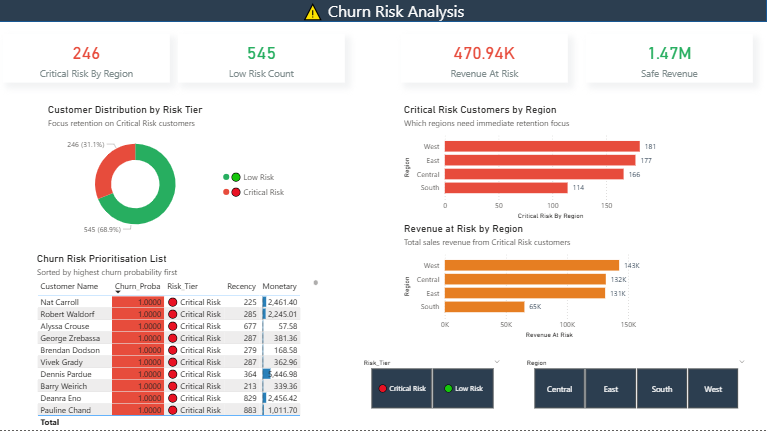

What the dashboard file says about the page in this screenshot:
{"tool":"powerbi","page":{"name":"Churn Risk","canvas":[1280,720],"ordinal":4},"visuals":[{"type":"shape","box":[0,0,1280,40],"z":0},{"type":"card","fields":{"Values":["Orders.Critical Risk By Region"]},"box":[5.9,60.2,277.7,80.8],"z":1000},{"type":"card","fields":{"Values":["Orders.LowRiskCount"]},"box":[298.3,60.2,277.7,80.8],"z":2000},{"type":"card","fields":{"Values":["Orders.Revenue at Risk"]},"box":[670,60.2,277.7,80.8],"z":3000},{"type":"card","fields":{"Values":["Orders.SafeRevenue"]},"box":[978.6,60.2,277.7,80.8],"z":4000},{"type":"donutChart","title":"Customer Distribution by Risk Tier","fields":{"Category":["Churn_Scores.Risk_Tier"],"Y":["Orders.TotalChurnCustomers"]},"box":[76.4,174.9,412.9,229.2],"z":5000},{"type":"clusteredBarChart","title":"Critical Risk Customers by Region","fields":{"Category":["Orders.Region"],"Y":["Orders.Critical Risk Count"]},"box":[670,174.9,440.8,198.4],"z":6000},{"type":"clusteredBarChart","title":"Revenue at Risk by Region","fields":{"Category":["Orders.Region"],"Y":["Orders.Revenue At Risk"]},"box":[670,373.2,440.8,198.4],"z":7000},{"type":"tableEx","title":"Churn Risk Prioritisation List","fields":{"Values":["Churn_Scores.Customer Name","Churn_Scores.Churn_Proba","Churn_Scores.Risk_Tier","Churn_Scores.Recency","Churn_Scores.Monetary"]},"box":[58.8,423.2,479,296.8],"z":8000},{"type":"slicer","fields":{"Values":["Churn_Scores.Risk_Tier"]},"box":[595.1,596.6,252.7,94],"z":9000},{"type":"slicer","fields":{"Values":["Orders.Region"]},"box":[866.9,596.6,389.4,94],"z":10000}]}

Visuals, with their boxes in screenshot pixels (x1, y1, x2, y2), scaled from the page's 1280x720 canvas onto the 767x431 screenshot:
shape: <bbox>0, 0, 766, 24</bbox>
card - Orders.Critical Risk By Region: <bbox>4, 36, 170, 84</bbox>
card - Orders.LowRiskCount: <bbox>179, 36, 345, 84</bbox>
card - Orders.Revenue at Risk: <bbox>401, 36, 568, 84</bbox>
card - Orders.SafeRevenue: <bbox>586, 36, 753, 84</bbox>
"Customer Distribution by Risk Tier" donutChart: <bbox>46, 105, 293, 242</bbox>
"Critical Risk Customers by Region" clusteredBarChart: <bbox>401, 105, 666, 223</bbox>
"Revenue at Risk by Region" clusteredBarChart: <bbox>401, 223, 666, 342</bbox>
"Churn Risk Prioritisation List" tableEx: <bbox>35, 253, 322, 430</bbox>
slicer - Churn_Scores.Risk_Tier: <bbox>357, 357, 508, 413</bbox>
slicer - Orders.Region: <bbox>519, 357, 753, 413</bbox>
